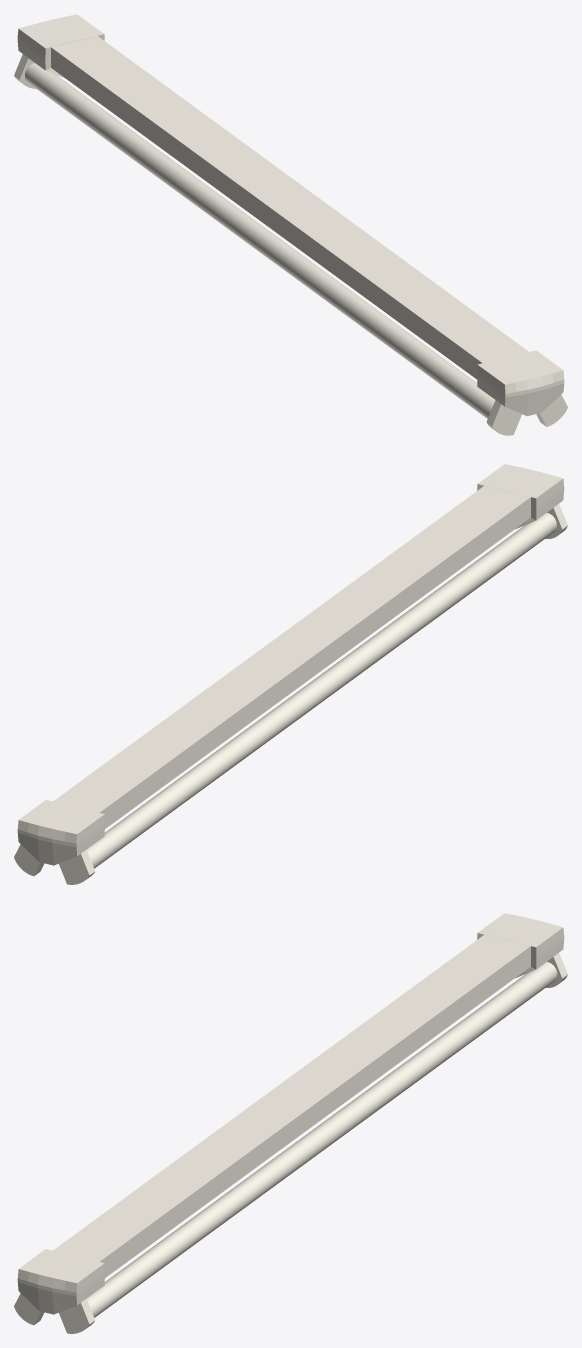
File: BoxLight.fbx
3 views of the same model, one above another, from view 1: azimuth 30°, elevation 25°; view 2: azimuth 150°, elevation 25°; view 3: azimuth 330°, elevation 25° (orthographic).
Parts seen in each view (by area): view 1: BoxLight, Light; view 2: BoxLight, Light; view 3: BoxLight, Light.001.
Part boxes in pixels (box(x1,y1,x2,y2)): BoxLight: box(14, 14, 567, 435); Light: box(25, 63, 495, 418); BoxLight: box(14, 464, 567, 884); Light: box(86, 513, 556, 868); BoxLight: box(14, 913, 567, 1333); Light.001: box(86, 962, 557, 1317).
Size of the model in its own units: 24.54 by 17.35 by 275.
